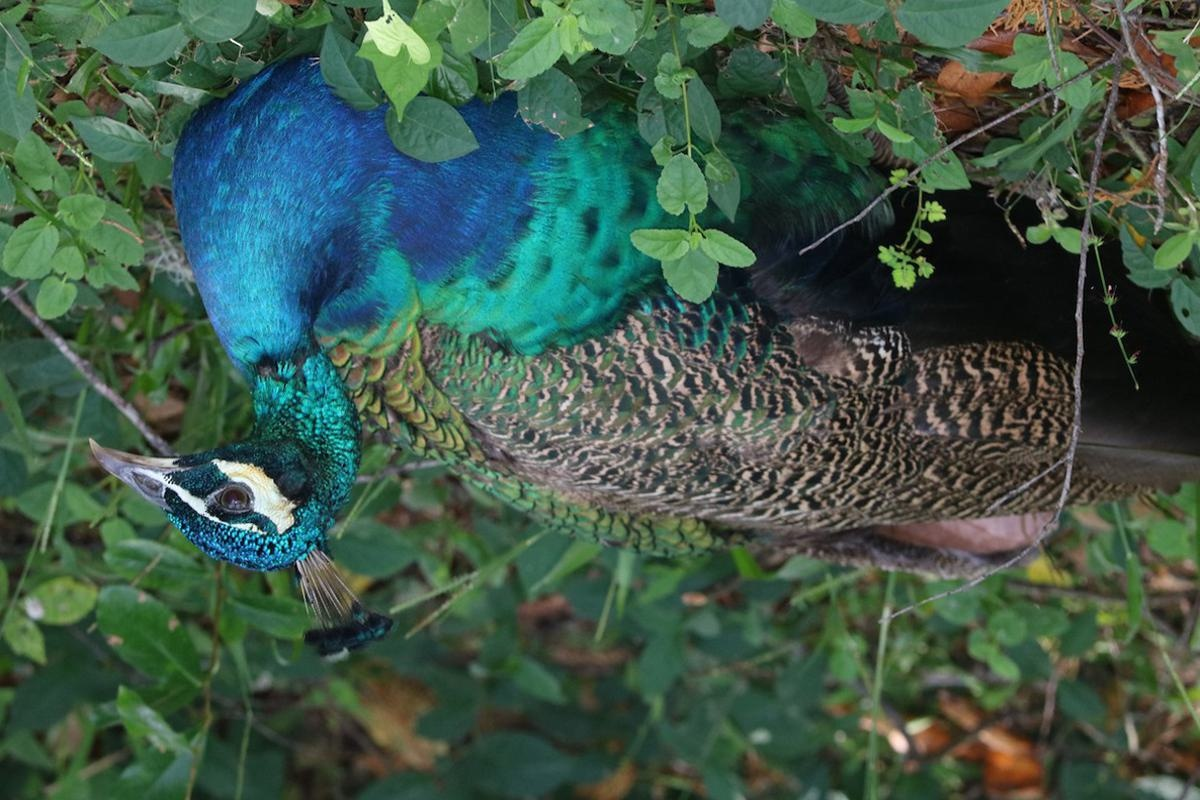peacock: (94, 96, 1090, 652)
